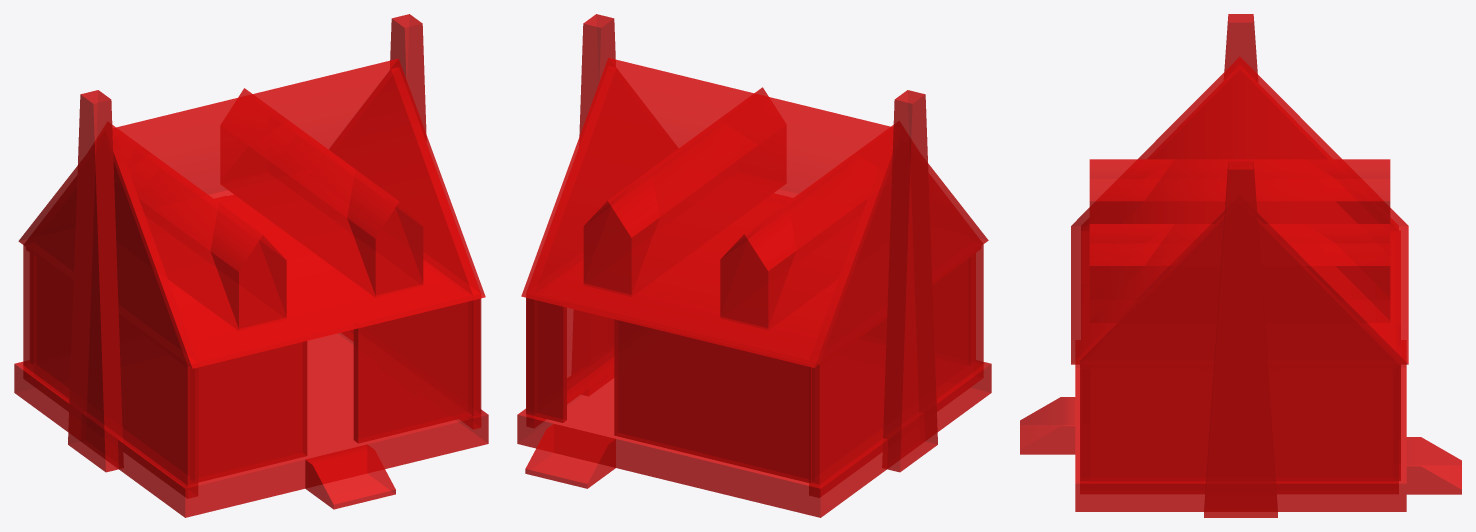
The model's file is SM_Bld_TownHouse_02_Collision.fbx.
3 renders of one model, left to right at view 1: azimuth 30°, elevation 25°; view 2: azimuth 150°, elevation 25°; view 3: azimuth 270°, elevation 25°, orthographic. The views are drawn at different scales.
Visible parts, largest first — view 1: SM_Bld_TownHouse_02_Collision; view 2: SM_Bld_TownHouse_02_Collision; view 3: SM_Bld_TownHouse_02_Collision.
Boxes of the visible parts, x1,y1,x2,y2 form: SM_Bld_TownHouse_02_Collision: (14,14,488,517); SM_Bld_TownHouse_02_Collision: (517,14,991,517); SM_Bld_TownHouse_02_Collision: (1020,14,1461,517).
Bounding box in the file's own units: 872 × 909 × 1045.
